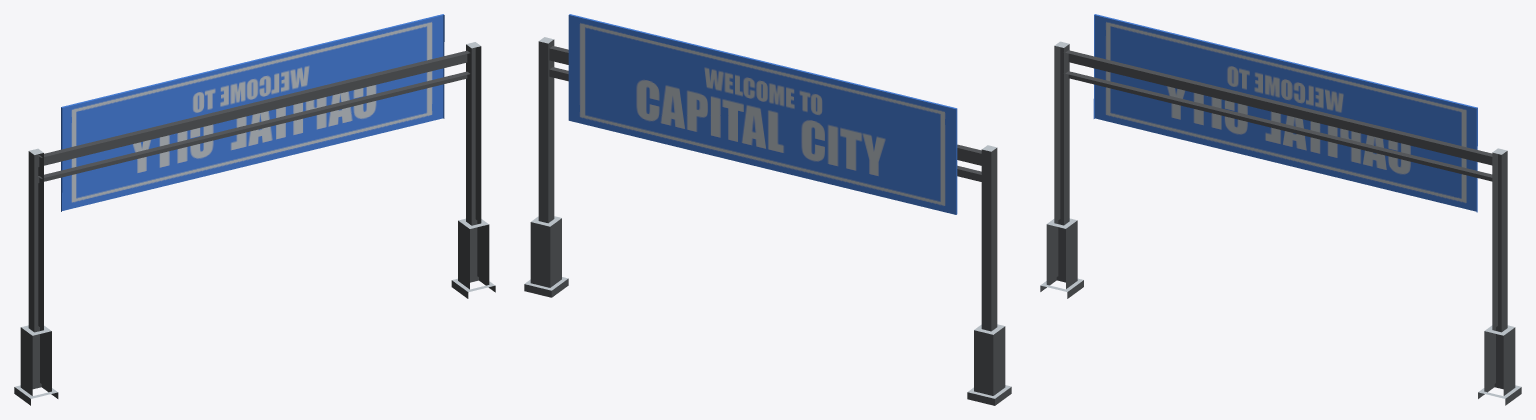
Rendered from Prop_Districtsign_02.fbx.
3 views of the same model, side by side, from view 1: azimuth 30°, elevation 25°; view 2: azimuth 150°, elevation 25°; view 3: azimuth 330°, elevation 25° (orthographic).
Parts seen in each view (by area): view 1: Sign, Frame; view 2: Sign, Frame; view 3: Sign, Frame.
Part boxes in pixels (x1,y1,x2,y2): Sign: [61, 14, 444, 211]; Frame: [14, 42, 495, 405]; Sign: [568, 14, 957, 214]; Frame: [524, 37, 1011, 405]; Sign: [1093, 14, 1477, 212]; Frame: [1040, 41, 1521, 405].
Size of the model in its own units: 17.96 by 10.33 by 1.11.
